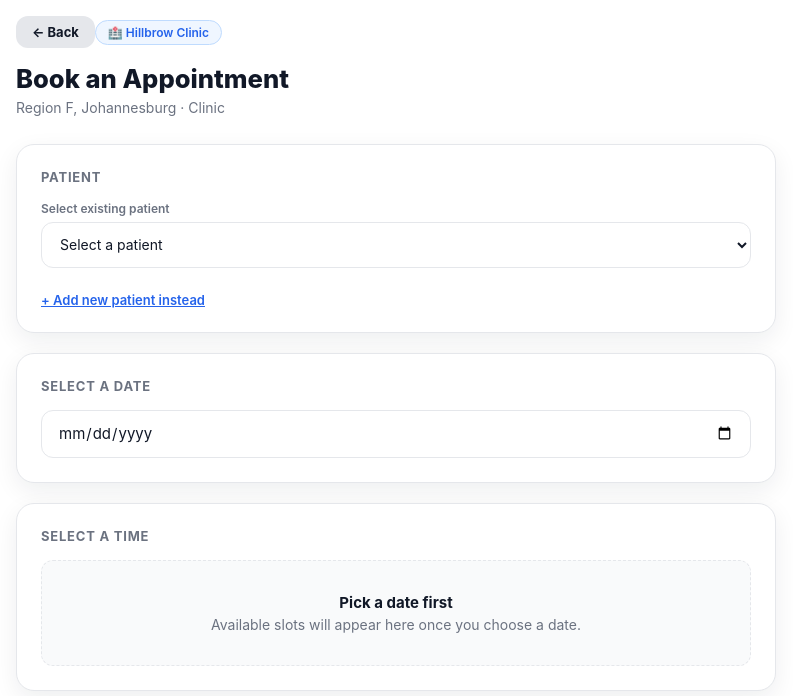
Test case: BookingPage › shows slot API error when available slots fail to load
Type "2099-05-10" into the date field named "Appointment date" at (396, 434), box [41,410,751,458]
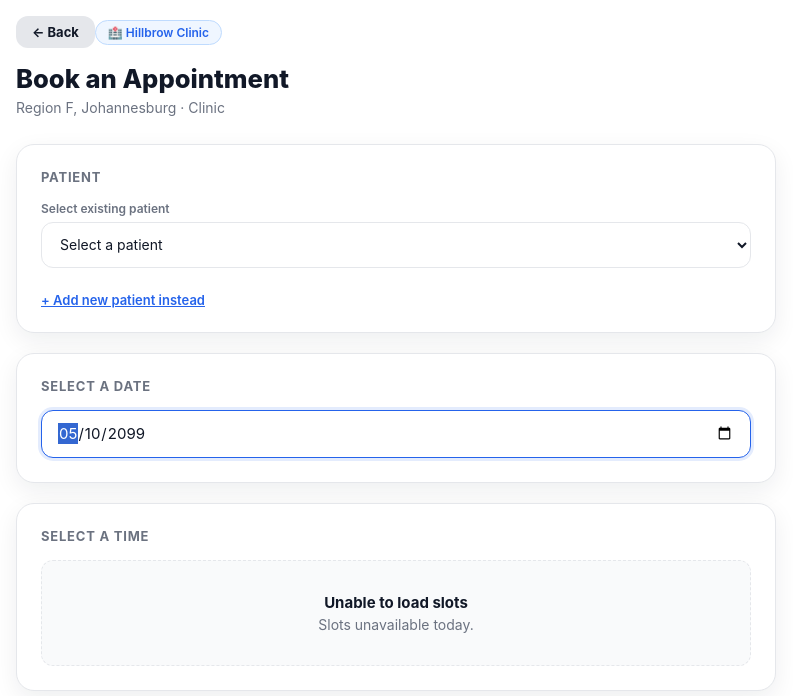
Result: the message shows "Unable to load slots" at [324,593,468,612]
Result: the text "Slots unavailable today." is shown at [318,616,474,633]
